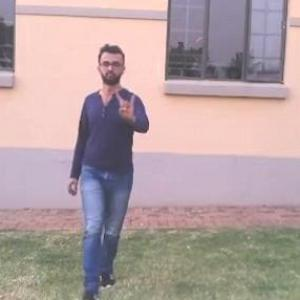takeoff-hand: (110, 88, 143, 121)
